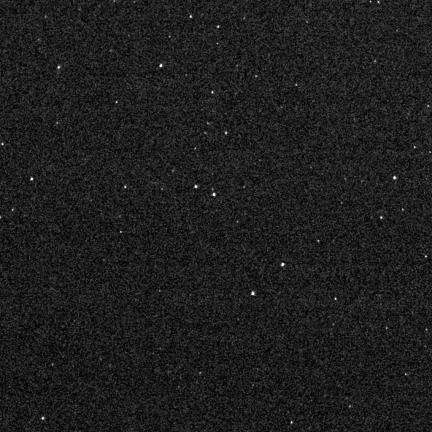blob: (380, 216, 384, 220), (42, 417, 46, 421), (189, 15, 193, 19), (30, 178, 34, 181), (225, 131, 228, 135), (211, 91, 214, 95), (58, 66, 61, 70), (393, 176, 396, 180), (217, 26, 220, 29), (124, 186, 127, 189), (281, 263, 284, 266), (213, 192, 215, 196), (335, 297, 337, 301), (195, 185, 197, 188), (252, 292, 254, 295), (160, 64, 162, 67)
